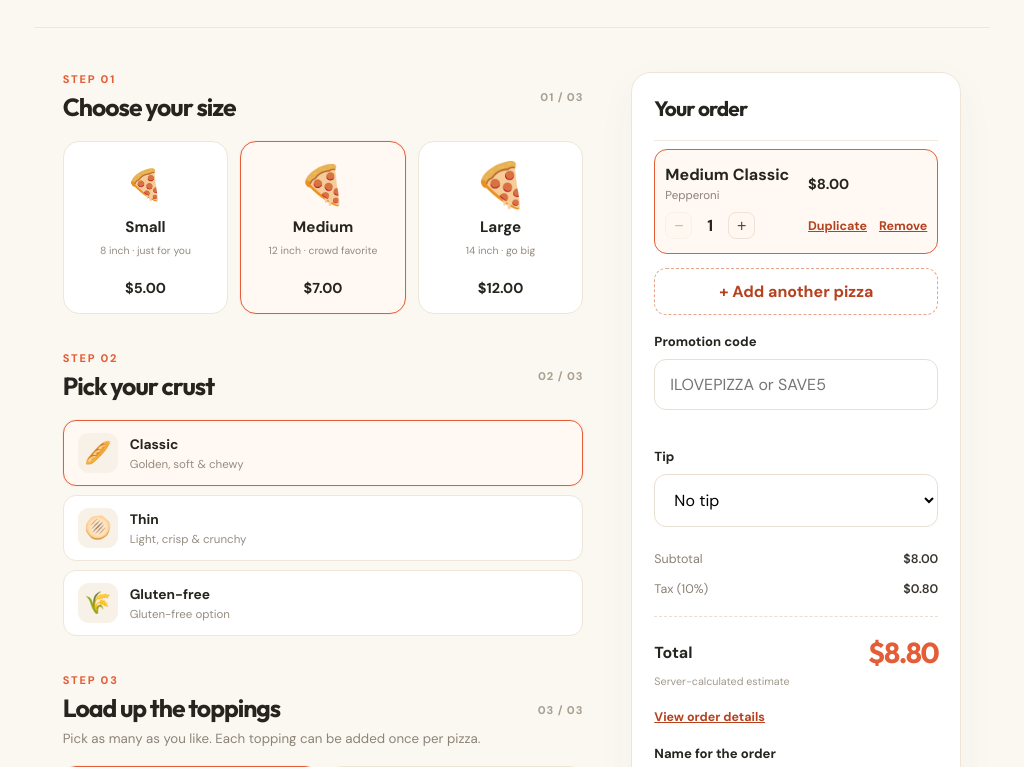
Scenario: UI-007: the promotion verdict comes from the server and is re-checked after every edit › keeps the code visible, explains why it is not applied, and updates as the order changes
The image size is (1024, 767).
(page scrolled)
Check: the radio button labelled "🍕 Medium 12 inch · crowd favorite $7.00" is shown, box [240,141,406,314]
Check: the text with test id "order-total" reads "$8.80", box [868,634,938,670]
Type "save5" into the field labelled "Promotion code".
click(796, 385); type("save5")  # box [654,359,938,410]
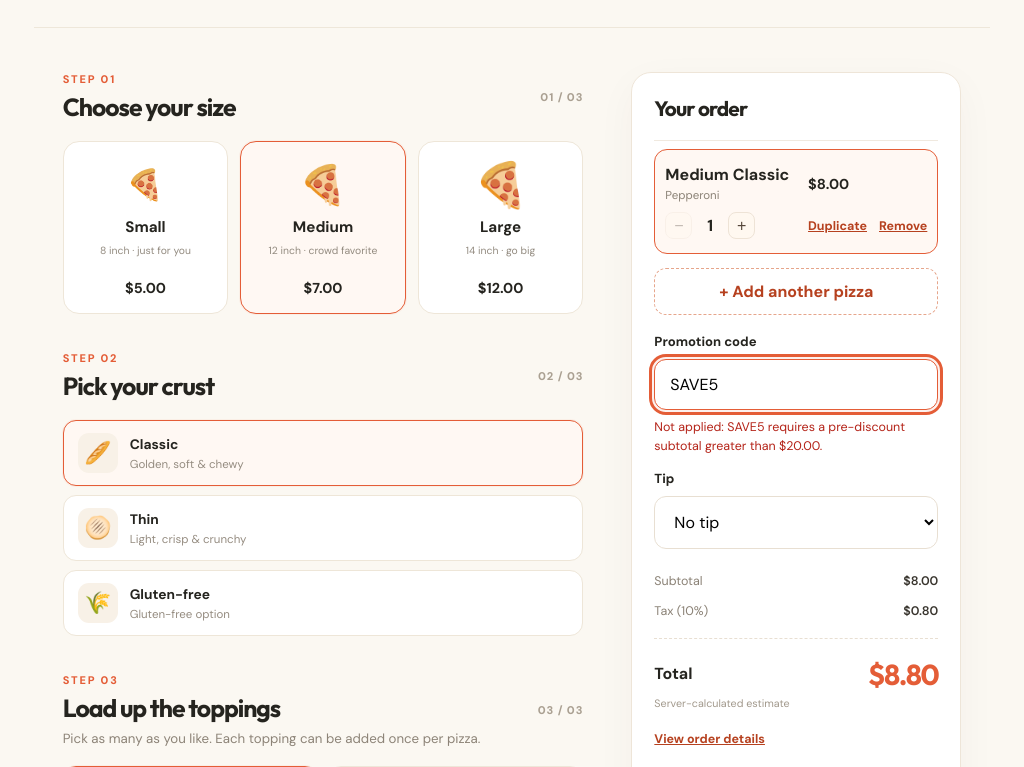
Check: the text "Not applied: SAVE5 requires a pre-discount subtotal greater than $20.00." is shown, box [654,418,938,456]
Click the button named "Increase quantity of Pizza 1: Medium Classic".
click(742, 226)  # box [728,212,755,239]
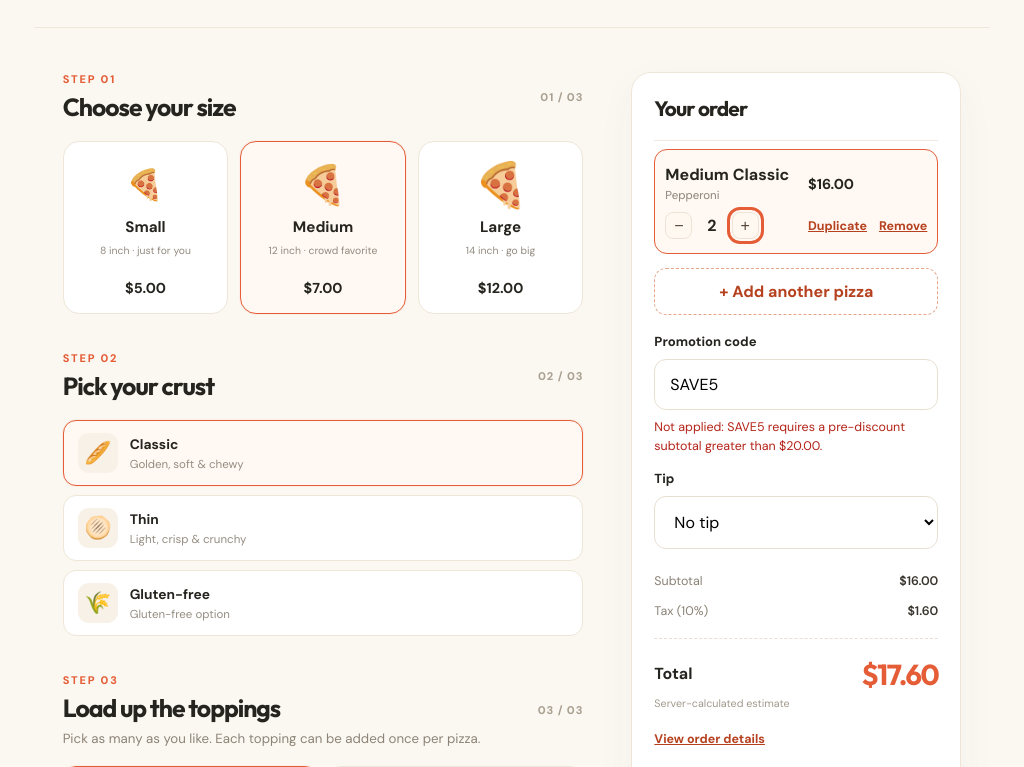
Click the button named "Increase quantity of Pizza 1: Medium Classic".
click(745, 226)  # box [732,212,759,239]
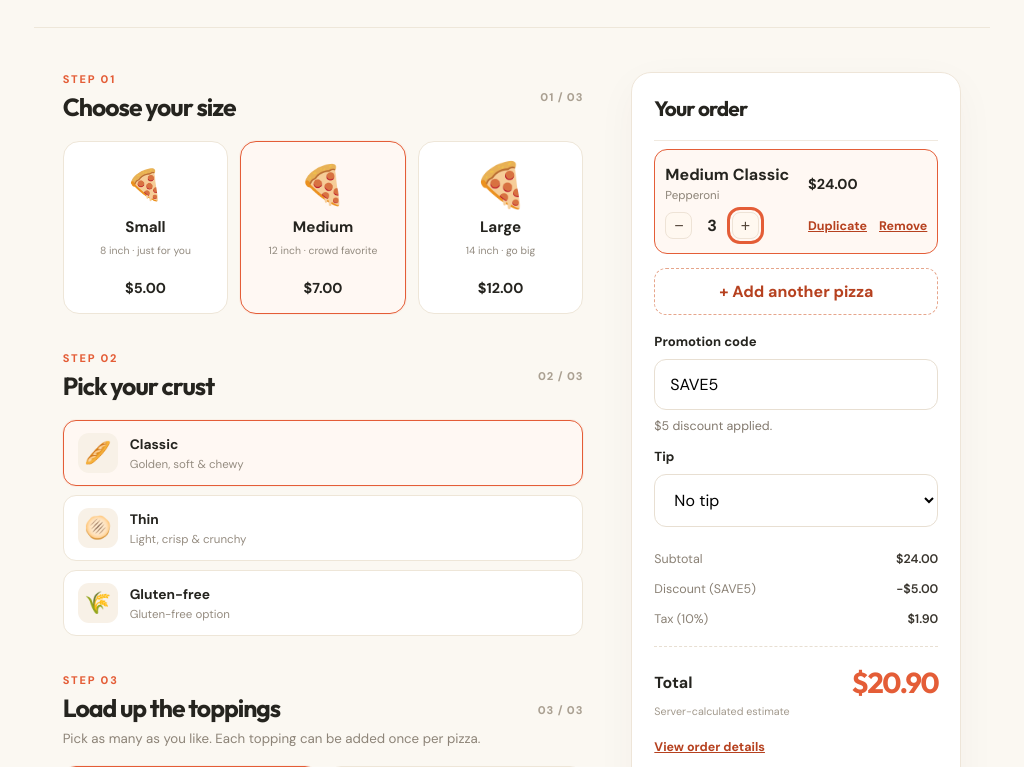
Check: the text "$5 discount applied." is shown, box [654,418,772,434]
Check: the text "Discount (SAVE5)" is shown, box [654,581,756,597]
Click the button named "Decrease quantity of Pizza 1: Medium Classic".
click(679, 226)  # box [665,212,692,239]
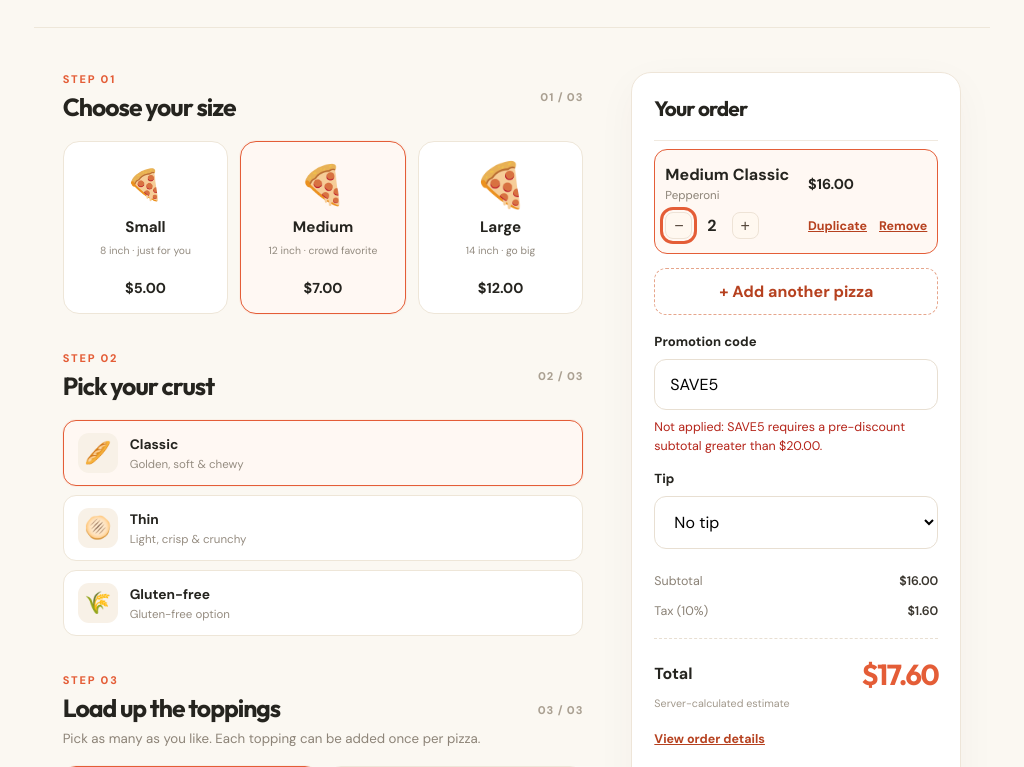
Check: the text "Not applied: SAVE5 requires a pre-discount subtotal greater than $20.00." is shown, box [654,418,938,456]
Check: the text "Discount (SAVE5)" is gone
